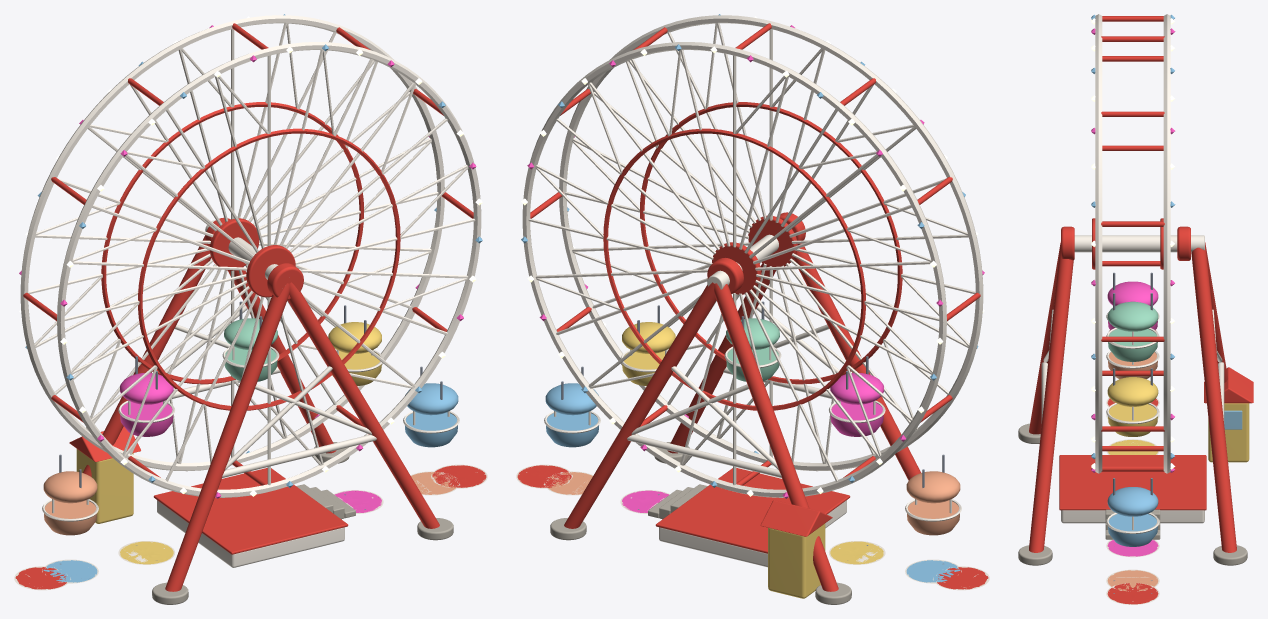
File: ferris_wheel.glb
3 renders of one model, left to right at view 1: azimuth 30°, elevation 25°; view 2: azimuth 150°, elevation 25°; view 3: azimuth 270°, elevation 25°, orthographic. The views are drawn at different scales.
Parts seen in each view (by area): view 1: wheel.001, ferris_wheel, gond5, gond1, gond4, gond2, gond3, gond8, gond0, gond7, gond6, gond10 (+1 smaller); view 2: wheel.001, ferris_wheel, gond5, gond1, gond4, gond2, gond3, gond8, gond0, gond7, gond6, gond10 (+1 smaller); view 3: ferris_wheel, wheel.001, gond1, gond2, gond3, gond4, gond0, gond11, gond5, gond10, gond8.
Boxes of the visible parts, x1=… form: wheel.001: x1=19, y1=14, x2=482, y2=498; ferris_wheel: x1=69, y1=217, x2=453, y2=604; gond5: x1=42, y1=454, x2=98, y2=535; gond1: x1=403, y1=366, x2=459, y2=447; gond4: x1=118, y1=356, x2=174, y2=436; gond2: x1=328, y1=305, x2=383, y2=385; gond3: x1=222, y1=301, x2=279, y2=381; gond8: x1=118, y1=541, x2=175, y2=564; gond0: x1=431, y1=464, x2=487, y2=488; gond7: x1=42, y1=559, x2=98, y2=583; gond6: x1=14, y1=566, x2=70, y2=590; gond10: x1=334, y1=490, x2=383, y2=513; wheel.001: x1=521, y1=14, x2=984, y2=498; ferris_wheel: x1=550, y1=212, x2=920, y2=604; gond5: x1=905, y1=454, x2=961, y2=535; gond1: x1=544, y1=366, x2=600, y2=447; gond4: x1=829, y1=356, x2=885, y2=436; gond2: x1=620, y1=305, x2=675, y2=385; gond3: x1=724, y1=301, x2=781, y2=381; gond8: x1=828, y1=541, x2=885, y2=564; gond0: x1=516, y1=464, x2=572, y2=488; gond7: x1=905, y1=559, x2=961, y2=583; gond6: x1=933, y1=566, x2=989, y2=590; gond10: x1=620, y1=490, x2=669, y2=513; ferris_wheel: x1=1018, y1=226, x2=1253, y2=565; wheel.001: x1=1091, y1=14, x2=1175, y2=473; gond1: x1=1106, y1=478, x2=1159, y2=546; gond2: x1=1106, y1=368, x2=1159, y2=436; gond3: x1=1106, y1=293, x2=1159, y2=361; gond4: x1=1106, y1=272, x2=1159, y2=330; gond0: x1=1106, y1=583, x2=1159, y2=604; gond11: x1=1106, y1=569, x2=1159, y2=591; gond5: x1=1106, y1=330, x2=1159, y2=378; gond10: x1=1106, y1=539, x2=1159, y2=557; gond8: x1=1106, y1=439, x2=1159, y2=454.
Bounding box in the file's own units: 14.76 × 14.92 × 6.88.
Materials: 1 (1 with a texture image).
